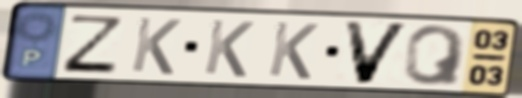K: (200, 17, 257, 80), (128, 15, 185, 78), (265, 19, 322, 82)
Q: (401, 23, 470, 87)
V: (340, 19, 414, 86)
Z: (59, 13, 127, 75)
